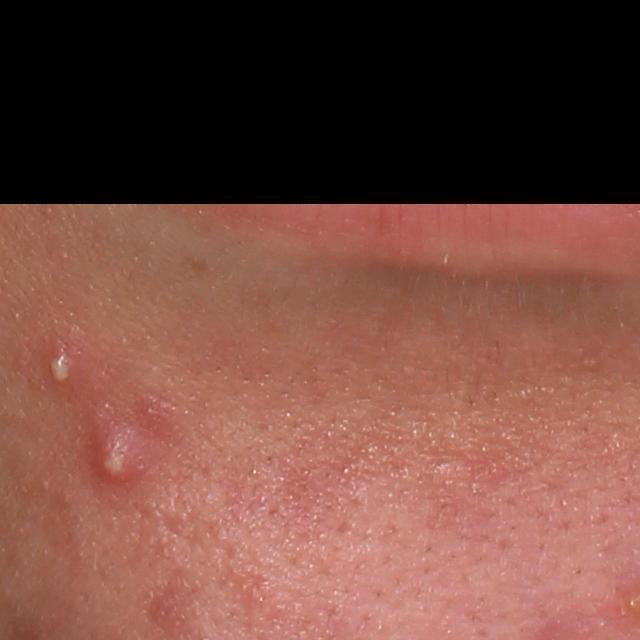pustule: (79, 413, 153, 491), (36, 341, 83, 393)
